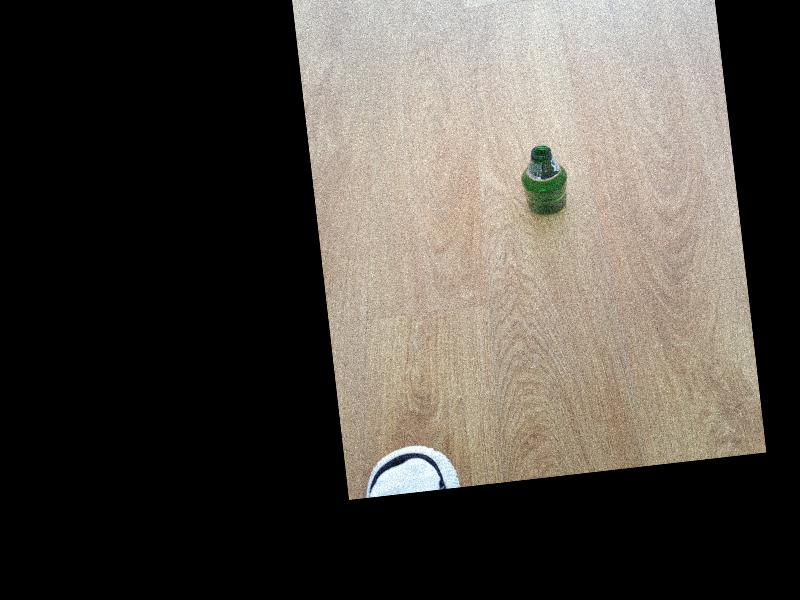Beer: (514, 143, 569, 218)
